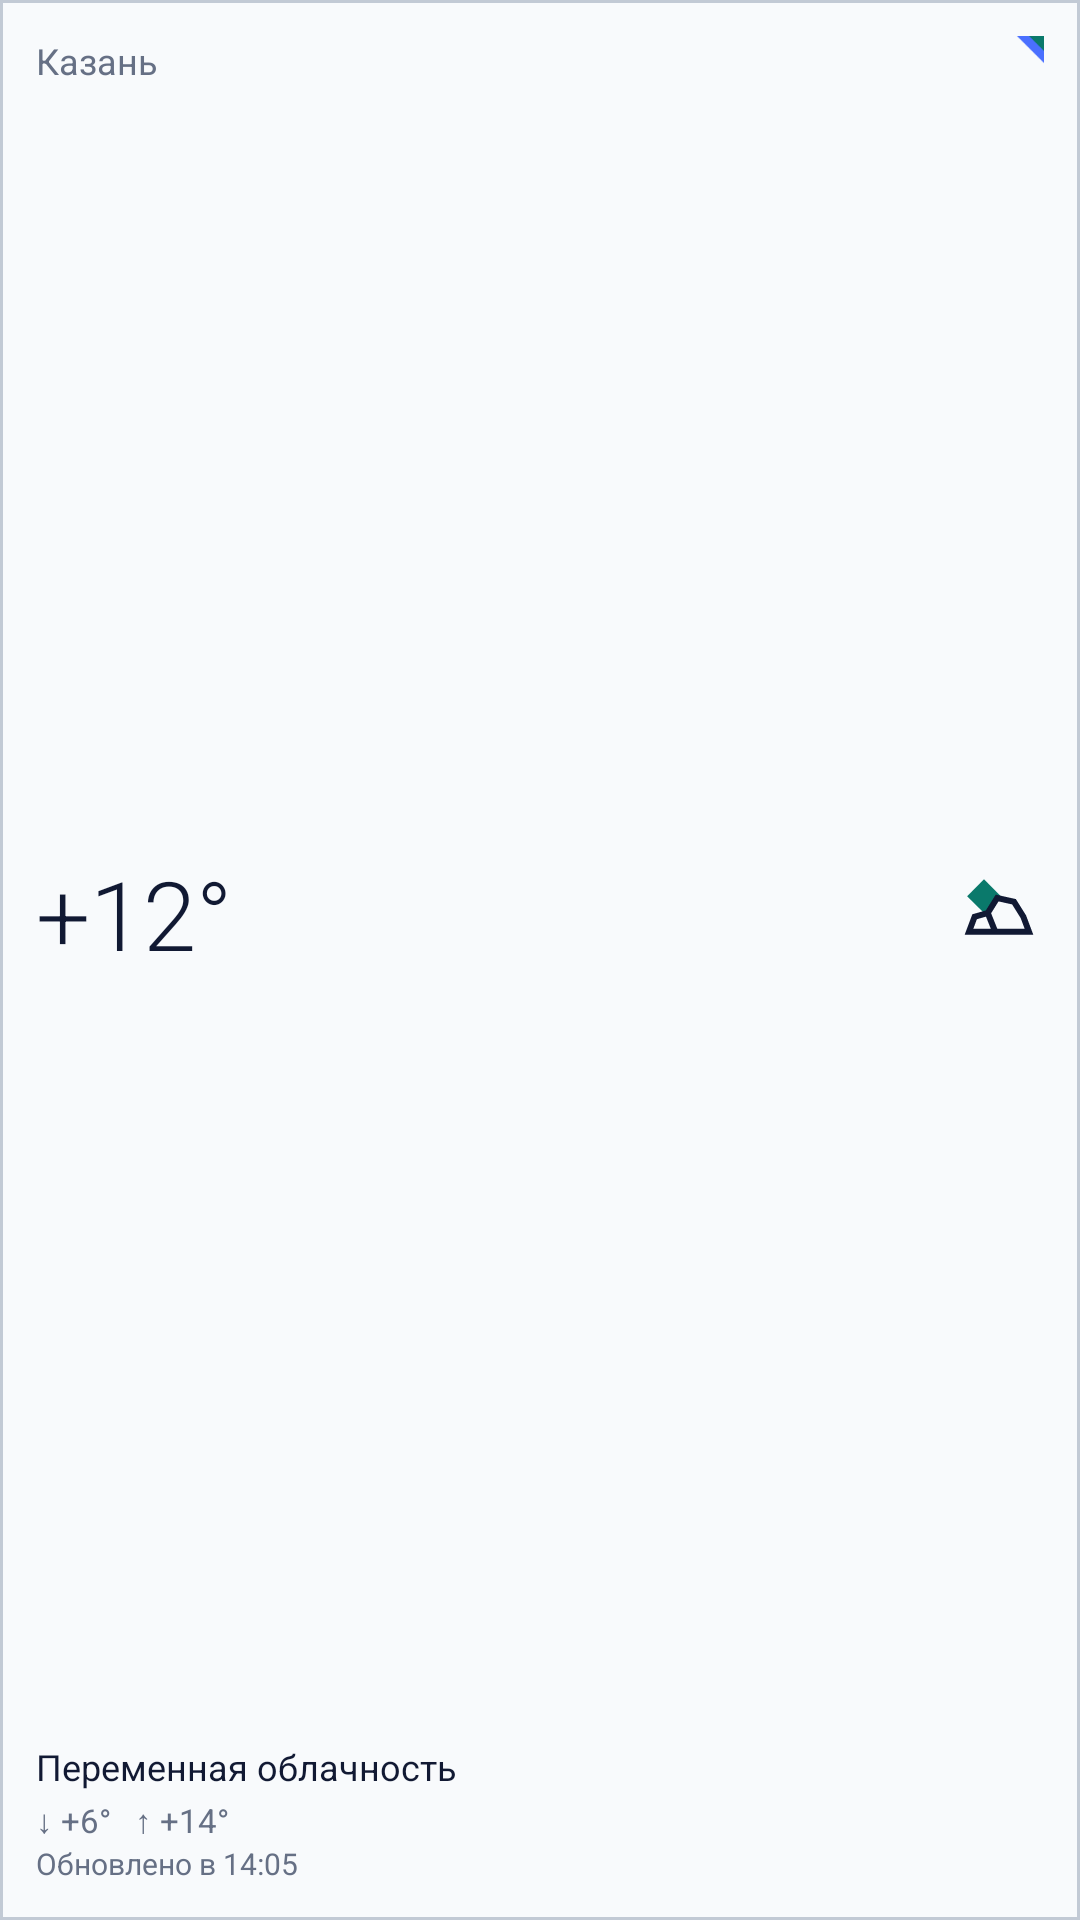

Locate icon controls on the screen. Image size 1080px x 1920px, boxes as (x1, y1, x2, y2).
widget fold: (1017, 36, 1044, 63)
